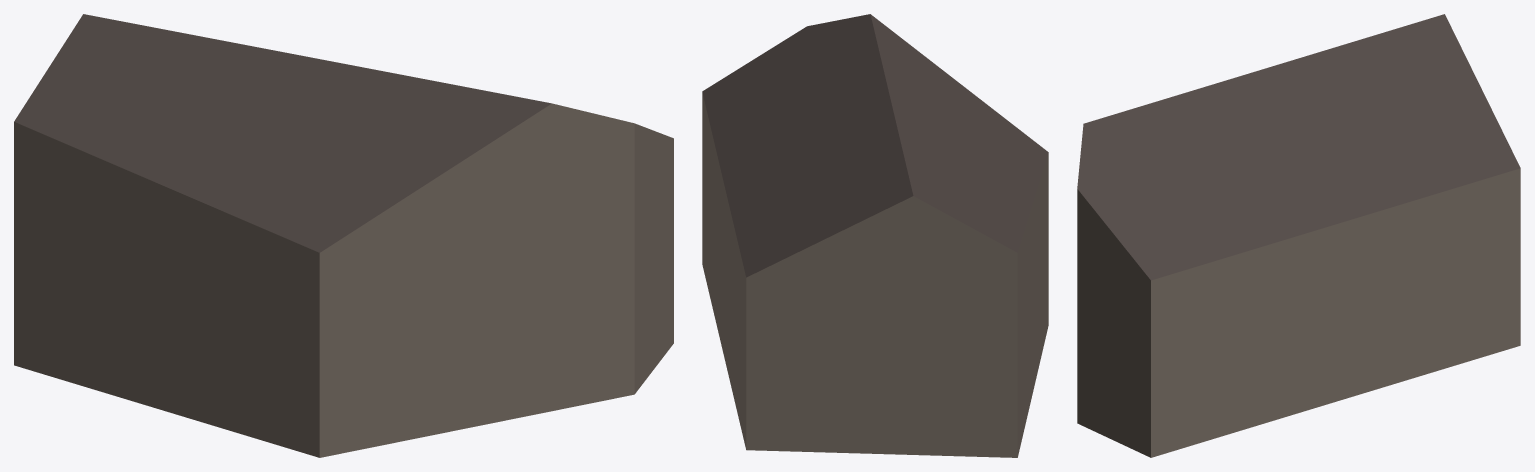
3 views of the same model, side by side, from view 1: azimuth 30°, elevation 25°; view 2: azimuth 150°, elevation 25°; view 3: azimuth 270°, elevation 25° (orthographic). The views are drawn at different scales.
Visible parts, largest first — view 1: HP-w369317584; view 2: HP-w369317584; view 3: HP-w369317584.
Part boxes in pixels (x1,y1,x2,y2): HP-w369317584: (14, 14, 673, 457); HP-w369317584: (702, 14, 1048, 457); HP-w369317584: (1077, 14, 1520, 457).
Size of the model in its own units: 23.76 by 13.51 by 20.39.
